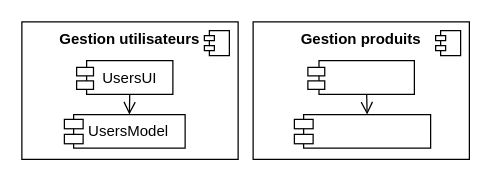
Image size: 491x181. Some labels were removed from this diagram. The box of each missing label's shape, as (x1, y1, x2, y2) in pixels:
ProductsModel: (302, 113, 431, 148)
ProductsUI: (318, 59, 414, 94)
